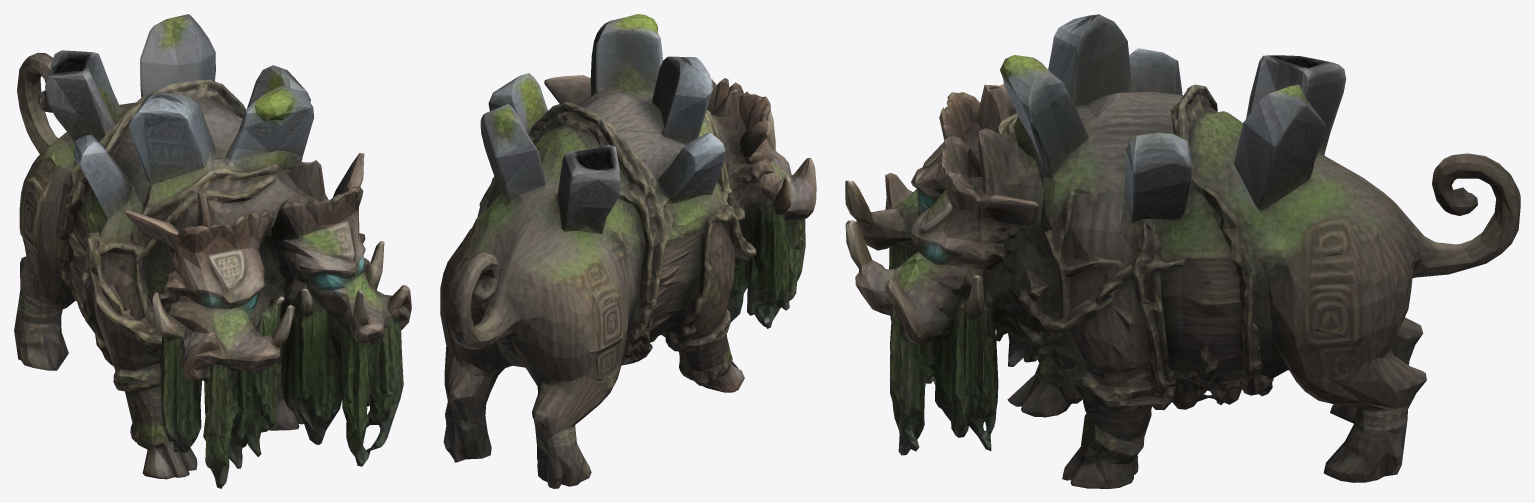
The model's file is mossmaw__ancientBogGuardian.glb.
3 renders of one model, left to right at view 1: azimuth 30°, elevation 25°; view 2: azimuth 150°, elevation 25°; view 3: azimuth 270°, elevation 25°, orthographic. The views are drawn at different scales.
Visible parts, largest first — view 1: world; view 2: world; view 3: world.
Boxes of the visible parts, bbox=[...] form: world: bbox=[14, 14, 411, 488]; world: bbox=[440, 14, 816, 488]; world: bbox=[845, 14, 1520, 488].
Bounding box in the file's own units: 0.4618 × 0.6549 × 0.9964.
1 material, 1 textured.
